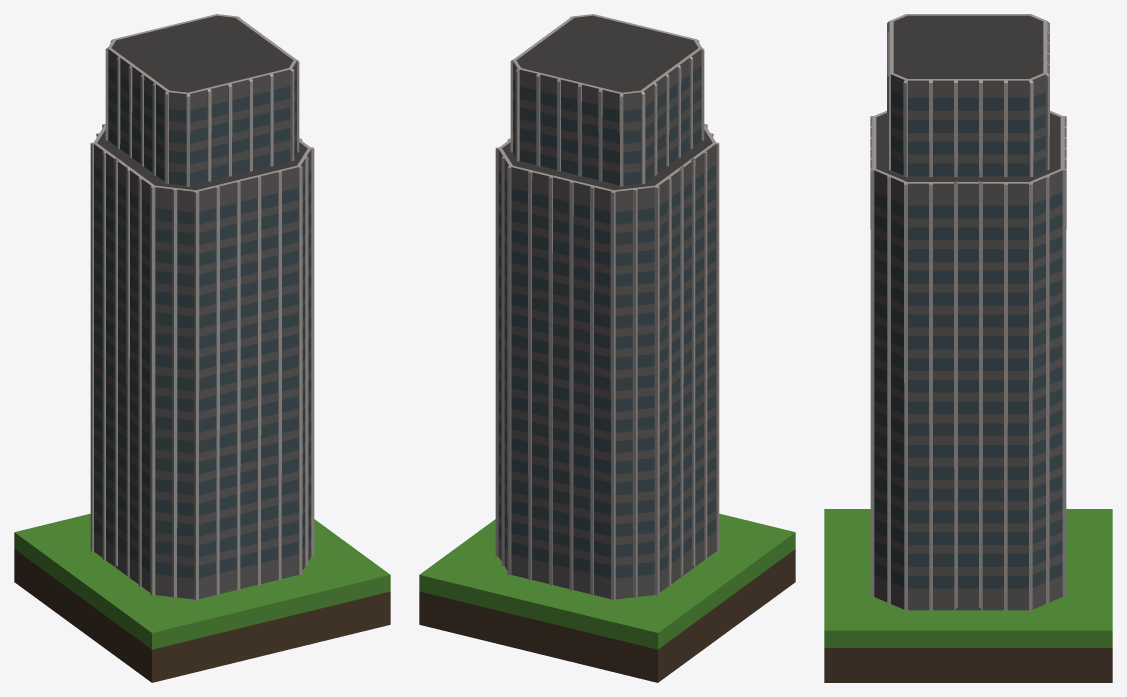
Rendered from tiles_skyscraper-huge.fbx.
3 views of the same model, side by side, from view 1: azimuth 30°, elevation 25°; view 2: azimuth 150°, elevation 25°; view 3: azimuth 270°, elevation 25° (orthographic). The views are drawn at different scales.
Parts seen in each view (by area): view 1: tiles_skyscraper_huge; view 2: tiles_skyscraper_huge; view 3: tiles_skyscraper_huge.
Part boxes in pixels (x1=…): tiles_skyscraper_huge: x1=14, y1=14, x2=390, y2=682; tiles_skyscraper_huge: x1=419, y1=14, x2=795, y2=682; tiles_skyscraper_huge: x1=824, y1=14, x2=1112, y2=682.
Bounding box in the file's own units: 90.91 × 200 × 90.91.
